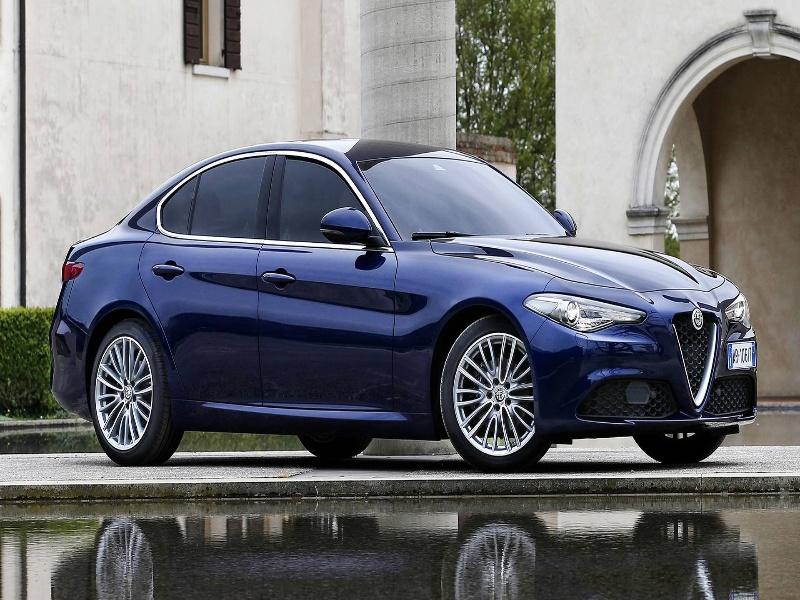licenceplate: (726, 345, 758, 369)
